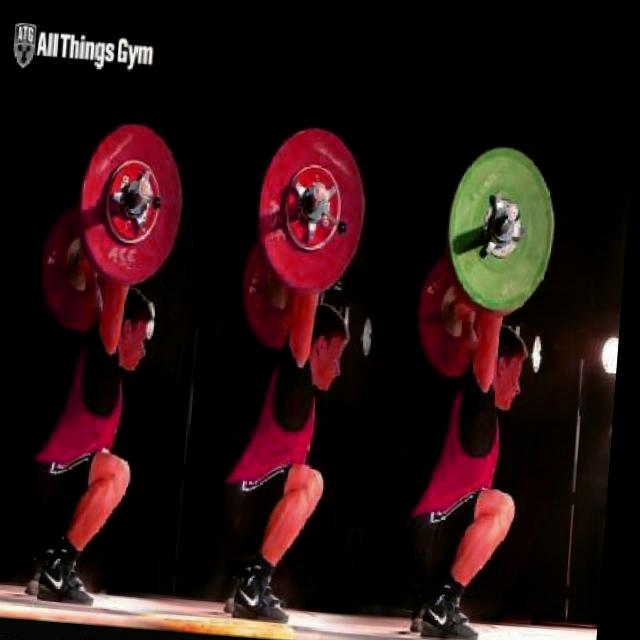barbell: (442, 131, 567, 317), (252, 113, 377, 296), (75, 111, 192, 291)
